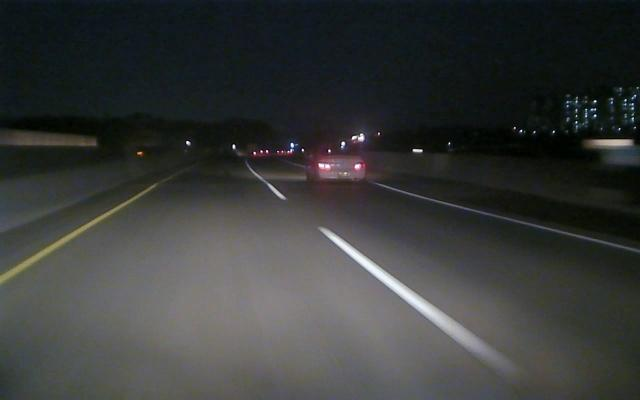lane: (258, 175, 520, 375), (393, 187, 640, 254), (2, 183, 159, 284)
